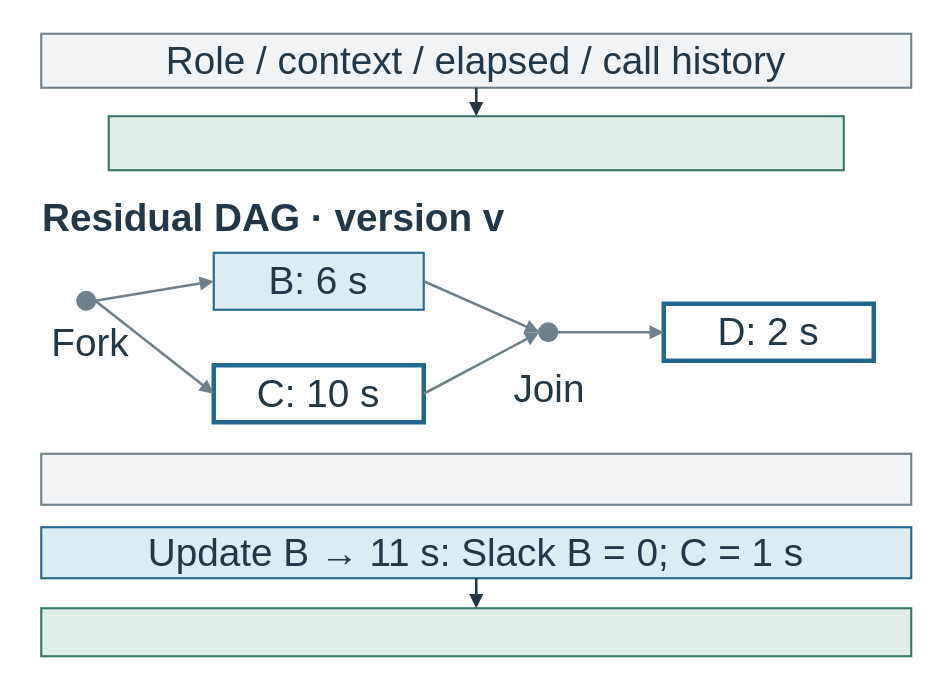
Image size: 951x699. Some labels were removed from this diagram. Here are the shapes that lost their labels. From the top down, the centre of each, then its label:
At [475,142]: "GBDT: remaining segment time".
At [475,478]: "CPM → Slack: B = 4 s; C = 0 s".
At [475,631]: "Version v + 1 → revalue placement".
